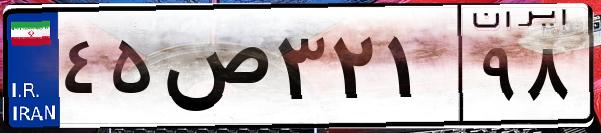1: (385, 28, 445, 110)
2: (330, 28, 385, 110)
3: (270, 28, 330, 110)
4: (57, 26, 110, 100)
5: (110, 28, 158, 98)
8: (525, 38, 570, 115)
9: (475, 38, 525, 113)
ص: (158, 20, 270, 120)
